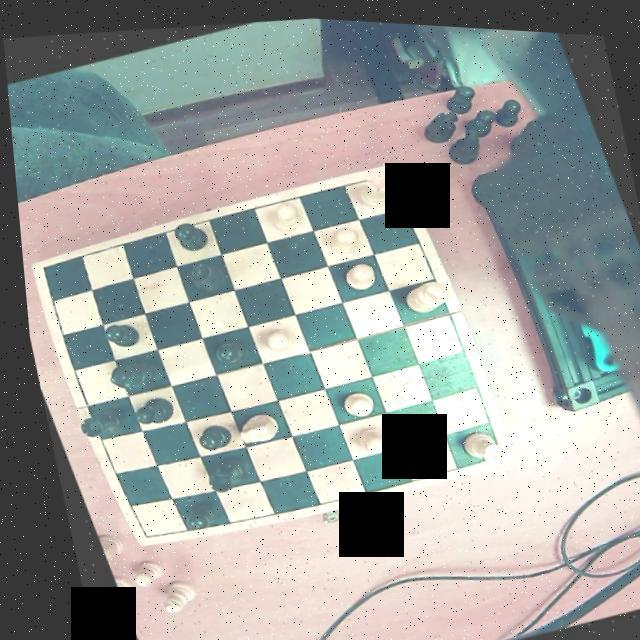chess-table-corners: (472, 430, 504, 460), (371, 158, 402, 186), (23, 254, 58, 278), (120, 517, 148, 543)
